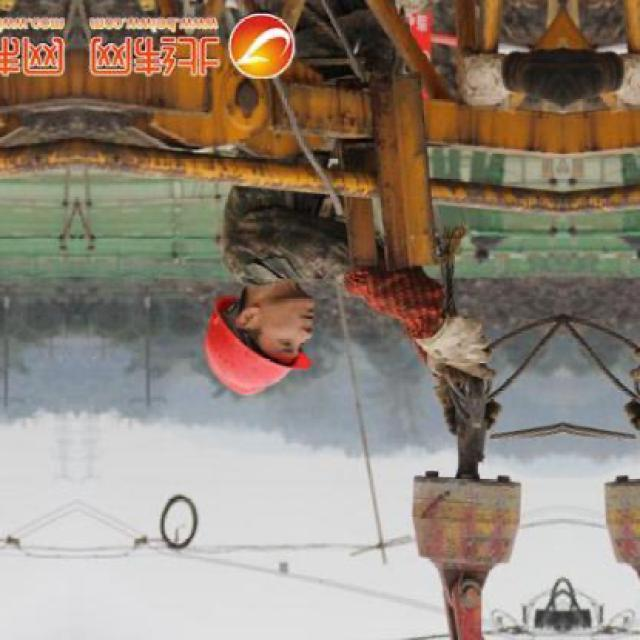safetyhelmet: (204, 274, 308, 408)
